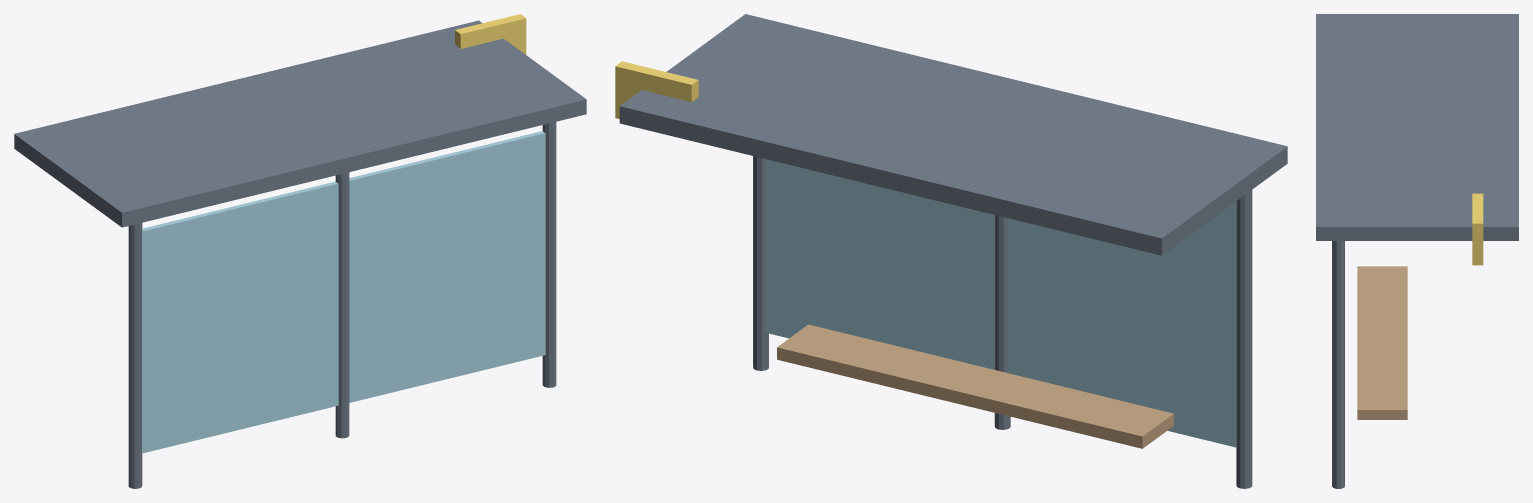
File: Gorlero_BusStop.fbx
3 views of the same model, side by side, from view 1: azimuth 30°, elevation 25°; view 2: azimuth 150°, elevation 25°; view 3: azimuth 270°, elevation 25° (orthographic). The views are drawn at different scales.
Parts seen in each view (by area): view 1: Cube.001, Cube, Cylinder, Cylinder.001, Cylinder.002, Cube.003; view 2: Cube, Cube.001, Cube.002, Cylinder, Cylinder.002, Cube.003, Cylinder.001; view 3: Cube, Cube.002, Cylinder.002, Cube.003.
Boxes of the visible parts, x1=… form: Cube.001: x1=142, y1=131, x2=545, y2=453; Cube: x1=14, y1=20, x2=586, y2=227; Cylinder: x1=128, y1=223, x2=142, y2=488; Cylinder.001: x1=335, y1=172, x2=349, y2=438; Cylinder.002: x1=542, y1=122, x2=556, y2=387; Cube.003: x1=455, y1=14, x2=526, y2=54; Cube: x1=619, y1=14, x2=1287, y2=255; Cube.001: x1=765, y1=159, x2=1236, y2=447; Cube.002: x1=777, y1=324, x2=1173, y2=448; Cylinder: x1=1236, y1=190, x2=1252, y2=488; Cylinder.002: x1=753, y1=156, x2=768, y2=370; Cube.003: x1=615, y1=61, x2=698, y2=118; Cylinder.001: x1=994, y1=215, x2=1010, y2=429; Cube: x1=1316, y1=14, x2=1518, y2=240; Cube.002: x1=1357, y1=266, x2=1407, y2=419; Cylinder.002: x1=1332, y1=241, x2=1344, y2=488; Cube.003: x1=1472, y1=193, x2=1483, y2=265.
Size of the model in its own units: 4.83 by 2.87 by 1.85.
